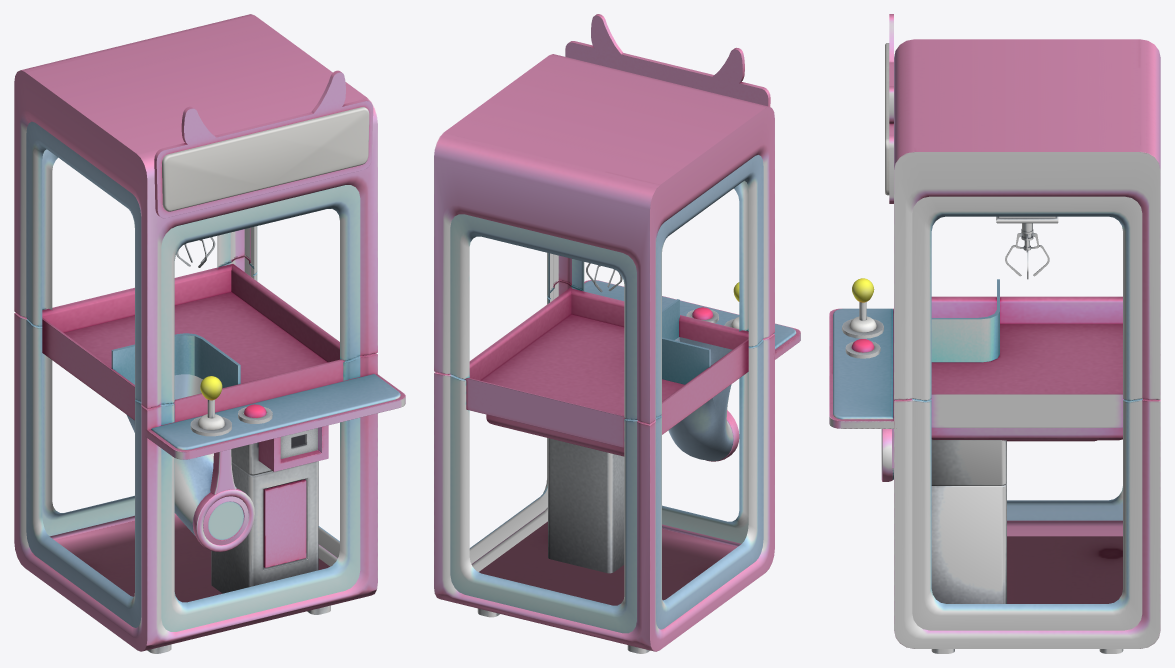
File: finalstand.fbx
3 renders of one model, left to right at view 1: azimuth 30°, elevation 25°; view 2: azimuth 150°, elevation 25°; view 3: azimuth 270°, elevation 25°, orthographic. The views are drawn at different scales.
Parts seen in each view (by area): view 1: Maquina, Extras, Manita; view 2: Maquina, Extras; view 3: Maquina, Extras, Manita, Extras.005.
Boxes of the visible parts, bbox=[...] form: Maquina: bbox=[14, 14, 405, 653]; Extras: bbox=[127, 70, 373, 551]; Manita: bbox=[200, 376, 222, 418]; Maquina: bbox=[434, 54, 800, 653]; Extras: bbox=[565, 14, 770, 461]; Maquina: bbox=[829, 39, 1160, 653]; Extras: bbox=[881, 14, 893, 481]; Manita: bbox=[852, 278, 874, 320]; Extras.005: bbox=[996, 216, 1058, 223].
Bounding box in the file's own units: 112 × 258 × 139.
